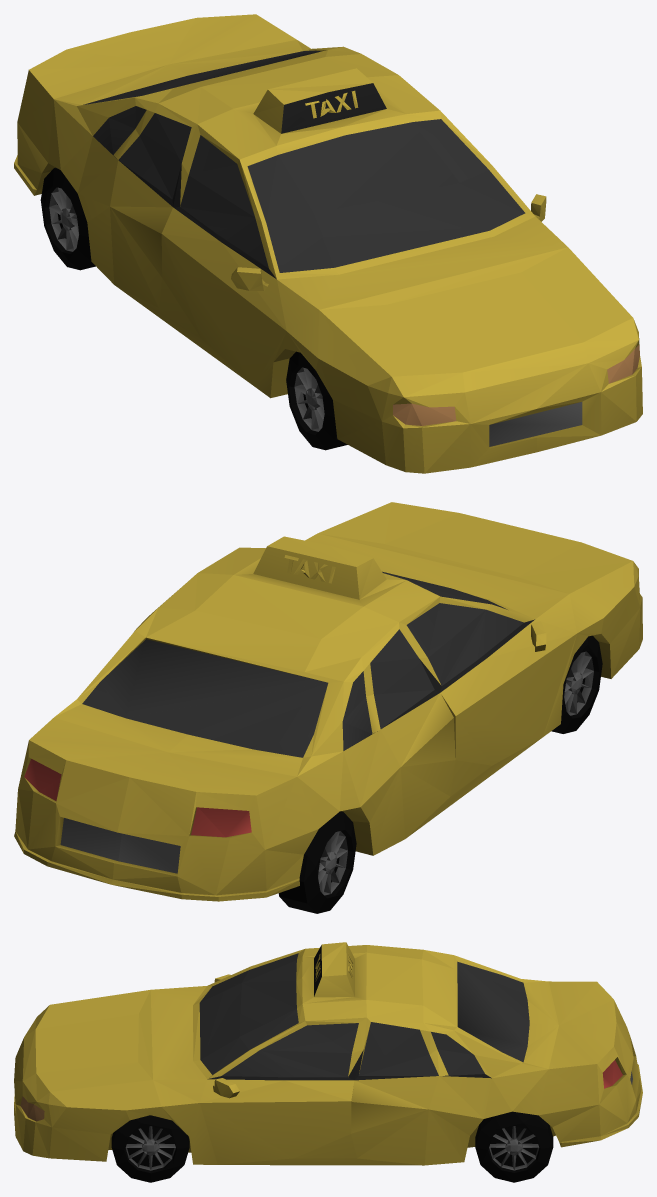
File: car-taxi.glb
The picture shows the model from 3 angles, top to bottom: view 1: azimuth 30°, elevation 25°; view 2: azimuth 150°, elevation 25°; view 3: azimuth 270°, elevation 25°; orthographic projection. The views are drawn at different scales.
Parts seen in each view (by area): view 1: car-taxi; view 2: car-taxi; view 3: car-taxi.
Boxes of the visible parts, x1,y1,x2,y2 form: car-taxi: (14, 14, 642, 473); car-taxi: (14, 502, 642, 913); car-taxi: (14, 942, 642, 1182).
Bounding box in the file's own units: 2.07 × 1.5 × 4.83.
